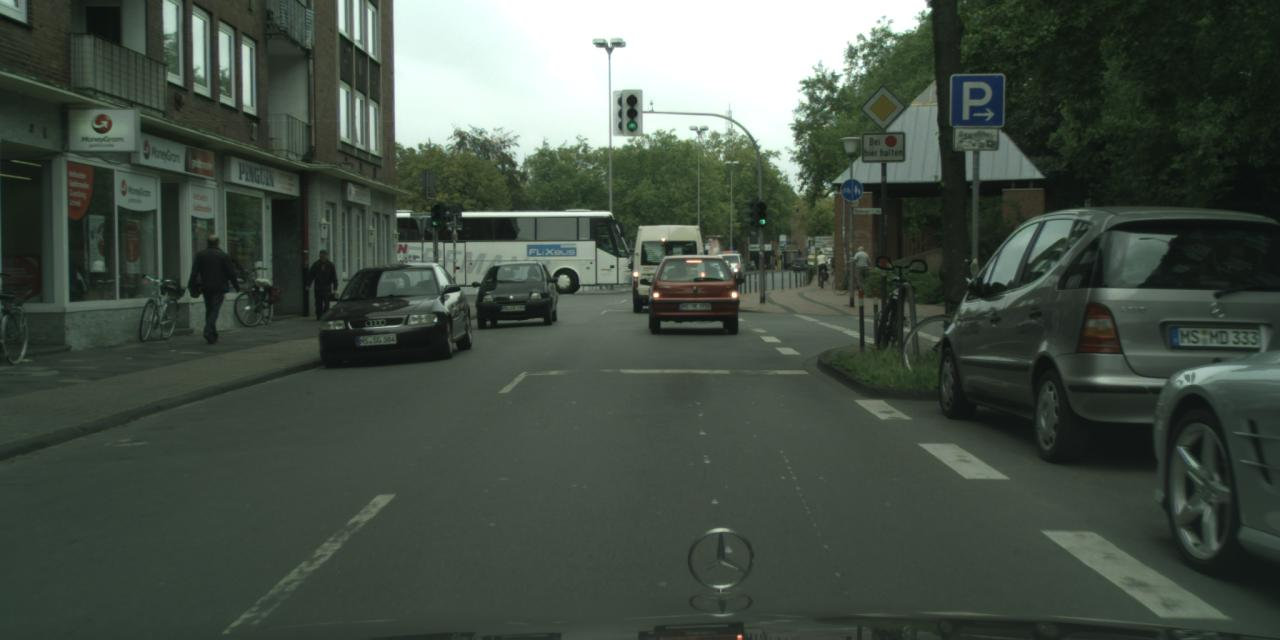ped: (192, 234, 234, 340), (309, 250, 336, 319), (851, 246, 870, 292), (814, 250, 828, 282)
